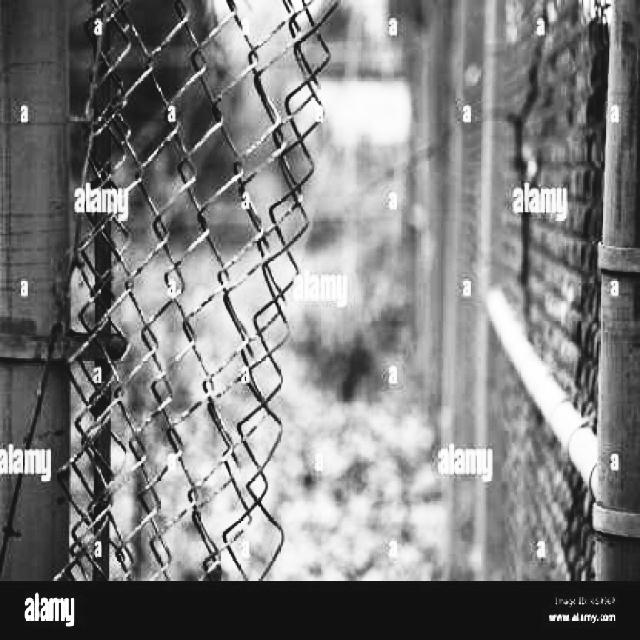anomaly-fence: (257, 0, 628, 605)
